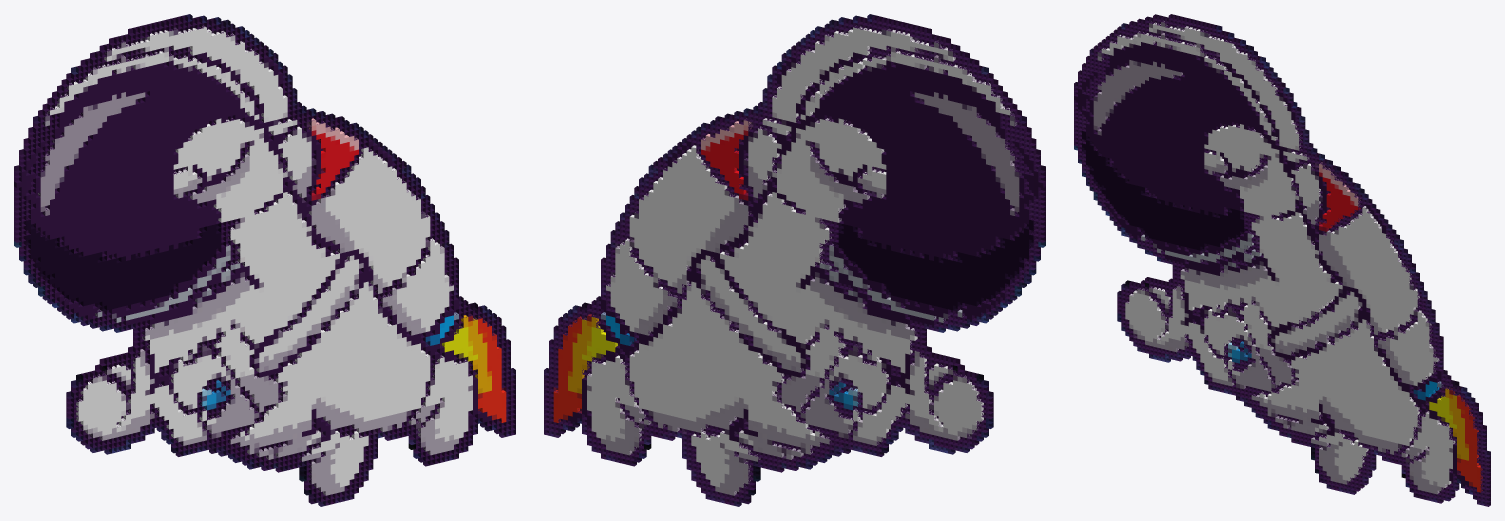
File: kosm_105x105x1.obj
The picture shows the model from 3 angles, left to right: view 1: azimuth 30°, elevation 25°; view 2: azimuth 150°, elevation 25°; view 3: azimuth 330°, elevation 25°; orthographic projection. The views are drawn at different scales.
Bounding box in the file's own units: 10.1 × 10.1 × 0.0962.
